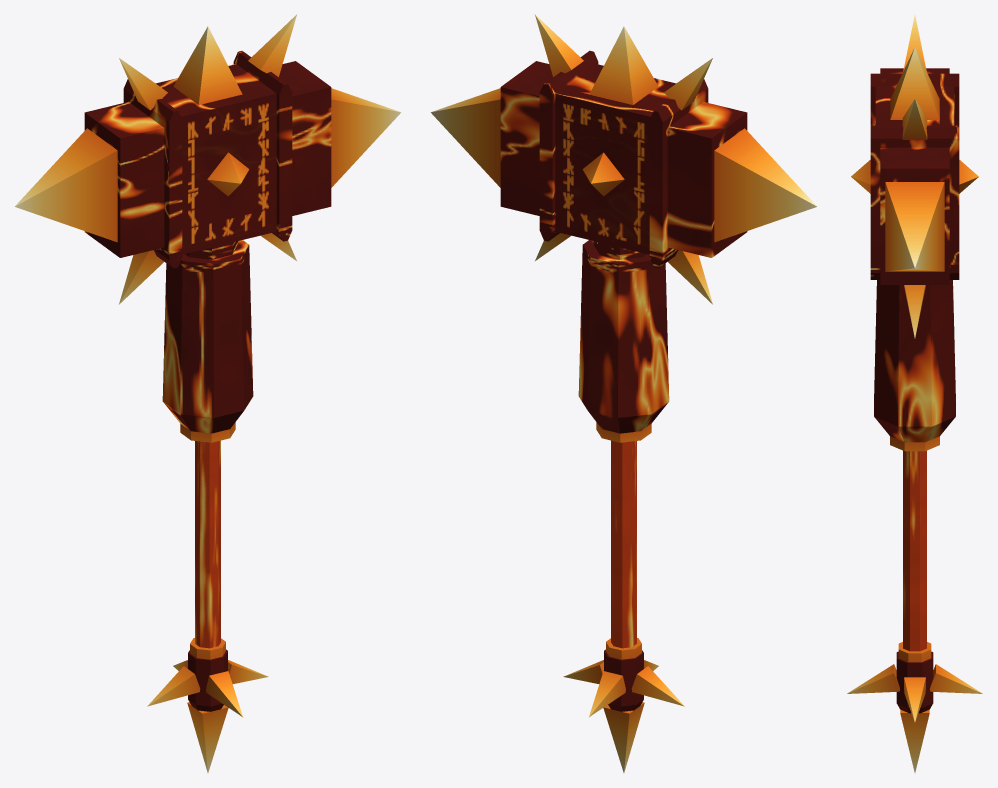
File: Sulfuras.obj
3 views of the same model, side by side, from view 1: azimuth 30°, elevation 25°; view 2: azimuth 150°, elevation 25°; view 3: azimuth 270°, elevation 25° (orthographic). The views are drawn at different scales.
Visible parts, largest first — view 1: Sulfuras; view 2: Sulfuras; view 3: Sulfuras.
Boxes of the visible parts, x1,y1,x2,y2 form: Sulfuras: (14, 14, 400, 772); Sulfuras: (431, 14, 817, 772); Sulfuras: (847, 15, 982, 772).
Size of the model in its own units: 0.88 by 1.63 by 0.2776.
2 materials, 2 textured.
